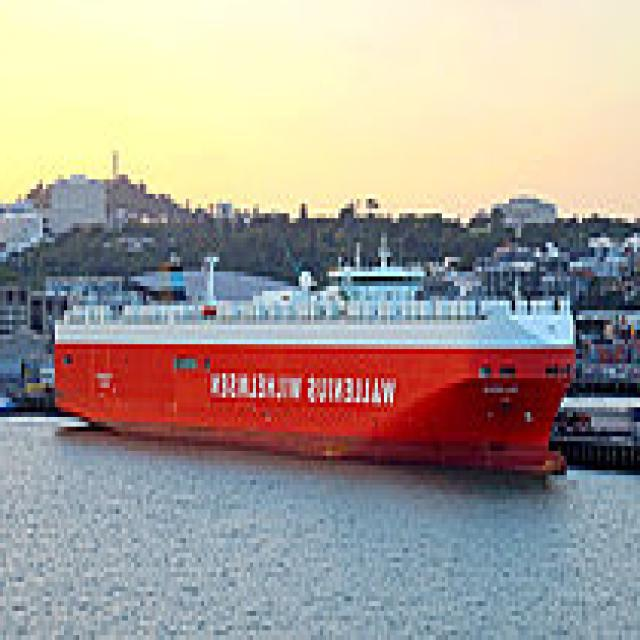Carrier: (55, 248, 585, 470)
